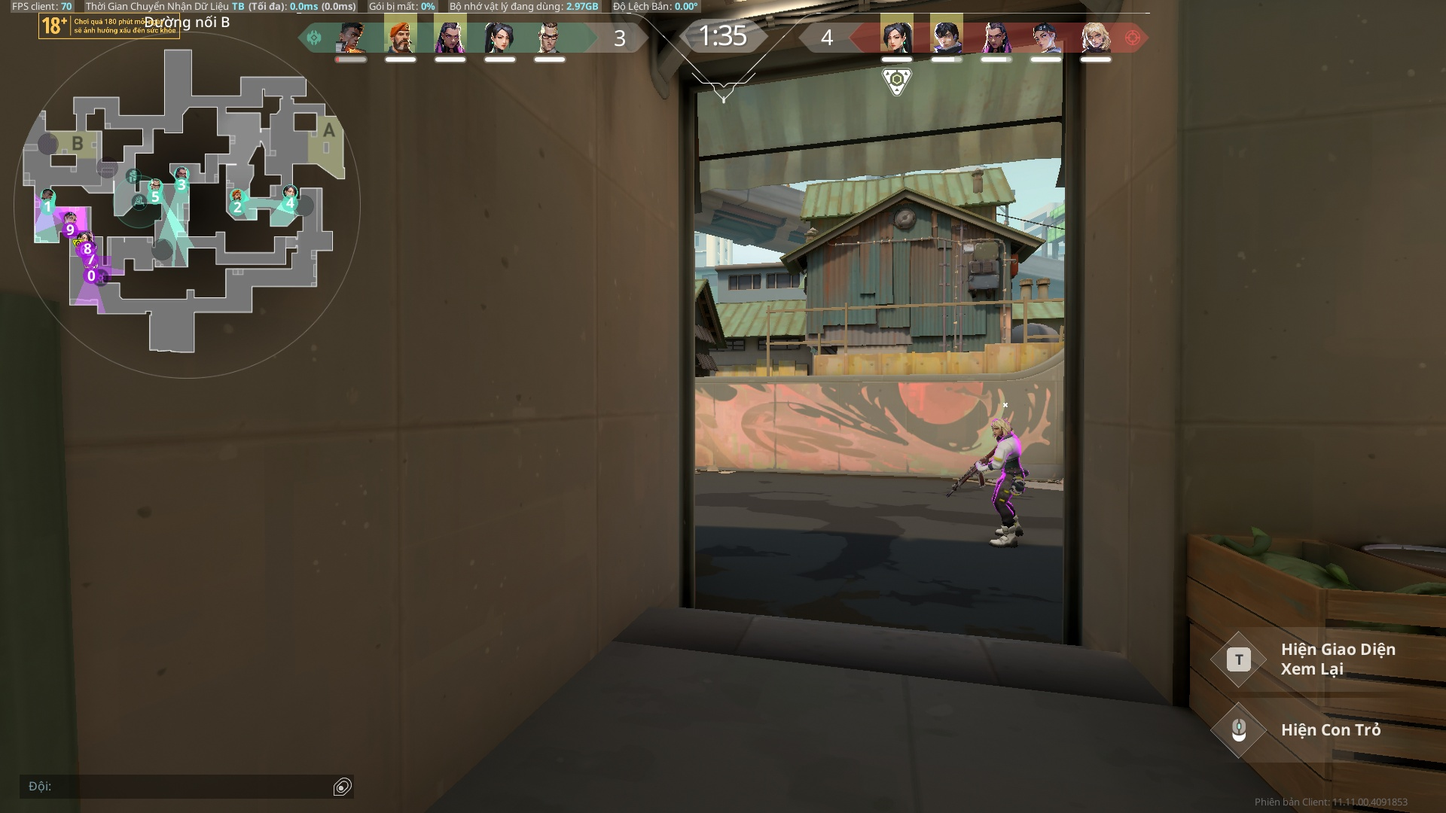body: (995, 436, 1024, 473)
head: (990, 417, 1011, 436)
